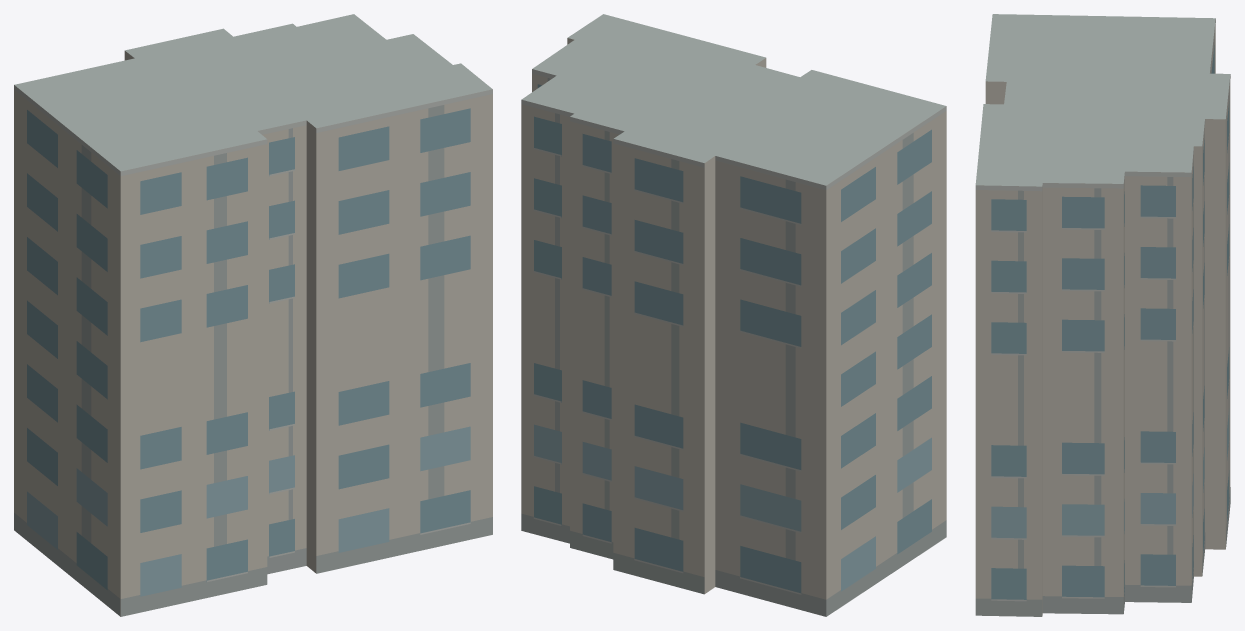
File: survey-upis-32766002.glb
The picture shows the model from 3 angles, left to right: view 1: azimuth 30°, elevation 25°; view 2: azimuth 150°, elevation 25°; view 3: azimuth 270°, elevation 25°; orthographic projection. The views are drawn at different scales.
Visible parts, largest first — view 1: survey-upis-32766002.tmp; view 2: survey-upis-32766002.tmp; view 3: survey-upis-32766002.tmp.
Boxes of the visible parts, x1=… form: survey-upis-32766002.tmp: x1=14, y1=14, x2=492, y2=616; survey-upis-32766002.tmp: x1=521, y1=14, x2=946, y2=616; survey-upis-32766002.tmp: x1=975, y1=14, x2=1230, y2=616.
Size of the model in its own units: 19.58 by 22.75 by 12.22.
